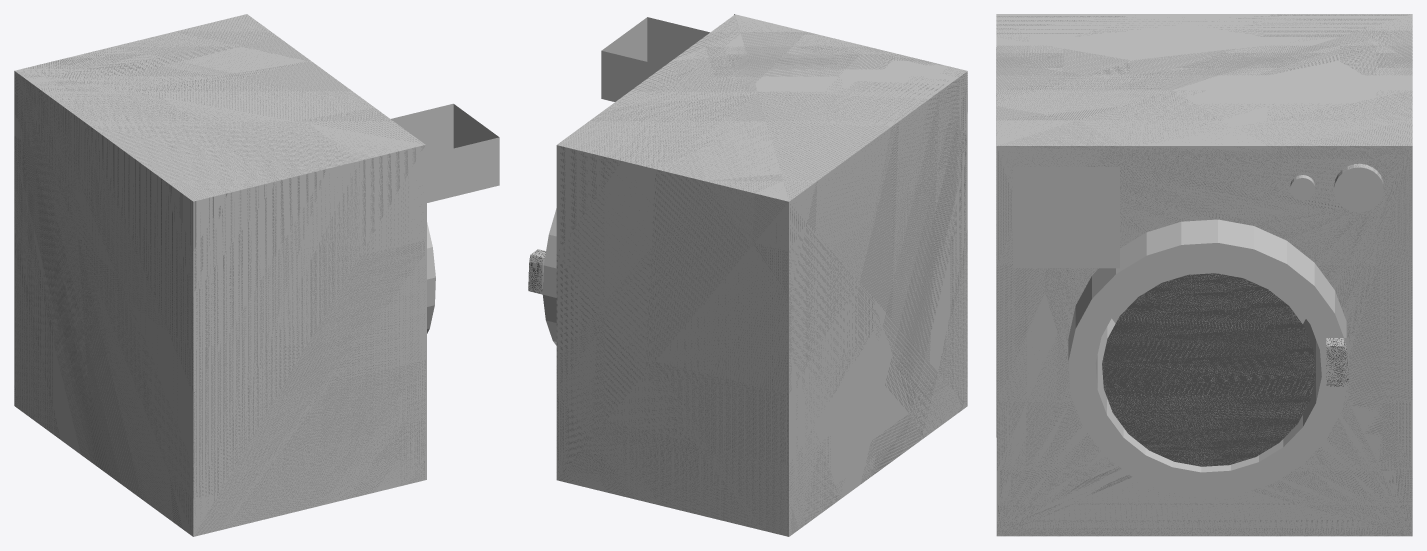
The picture shows the model from 3 angles, left to right: view 1: azimuth 30°, elevation 25°; view 2: azimuth 150°, elevation 25°; view 3: azimuth 270°, elevation 25°; orthographic projection. The views are drawn at different scales.
Visible parts, largest first — view 1: mesh1_mesh1-geometry, mesh3_mesh3-geometry; view 2: mesh1_mesh1-geometry, mesh3_mesh3-geometry; view 3: mesh1_mesh1-geometry, mesh2_mesh2-geometry, mesh3_mesh3-geometry, mesh4_mesh4-geometry.
Boxes of the visible parts, x1,y1,x2,y2 form: mesh1_mesh1-geometry: [14, 14, 435, 536]; mesh3_mesh3-geometry: [391, 103, 499, 202]; mesh1_mesh1-geometry: [528, 14, 967, 536]; mesh3_mesh3-geometry: [601, 17, 709, 101]; mesh1_mesh1-geometry: [996, 14, 1412, 536]; mesh2_mesh2-geometry: [1102, 273, 1315, 466]; mesh3_mesh3-geometry: [1013, 167, 1119, 268]; mesh4_mesh4-geometry: [1290, 175, 1314, 200].
Bounding box in the file's own units: 0.5753 × 0.5881 × 0.5685.
